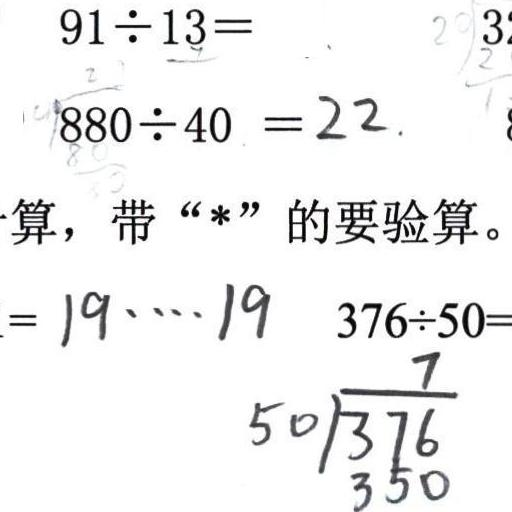ans: (55, 277, 272, 347), (315, 89, 388, 142)
